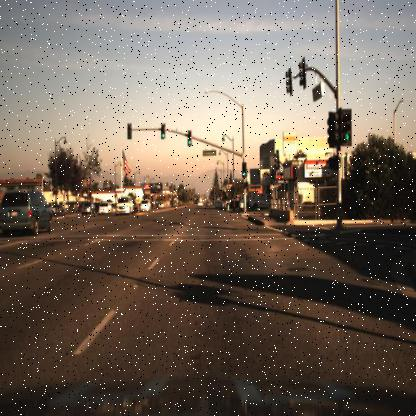car: (0, 183, 58, 248), (114, 193, 135, 216), (249, 193, 273, 211), (79, 197, 96, 221), (48, 201, 67, 219), (115, 198, 133, 216), (96, 199, 111, 217), (97, 201, 113, 217), (137, 197, 153, 212), (136, 196, 150, 212)
trafficLight: (126, 121, 132, 139)
trafficLight-Green: (158, 123, 166, 143), (242, 158, 249, 177), (184, 136, 192, 152), (184, 123, 191, 141), (160, 130, 168, 142), (240, 168, 246, 181)
